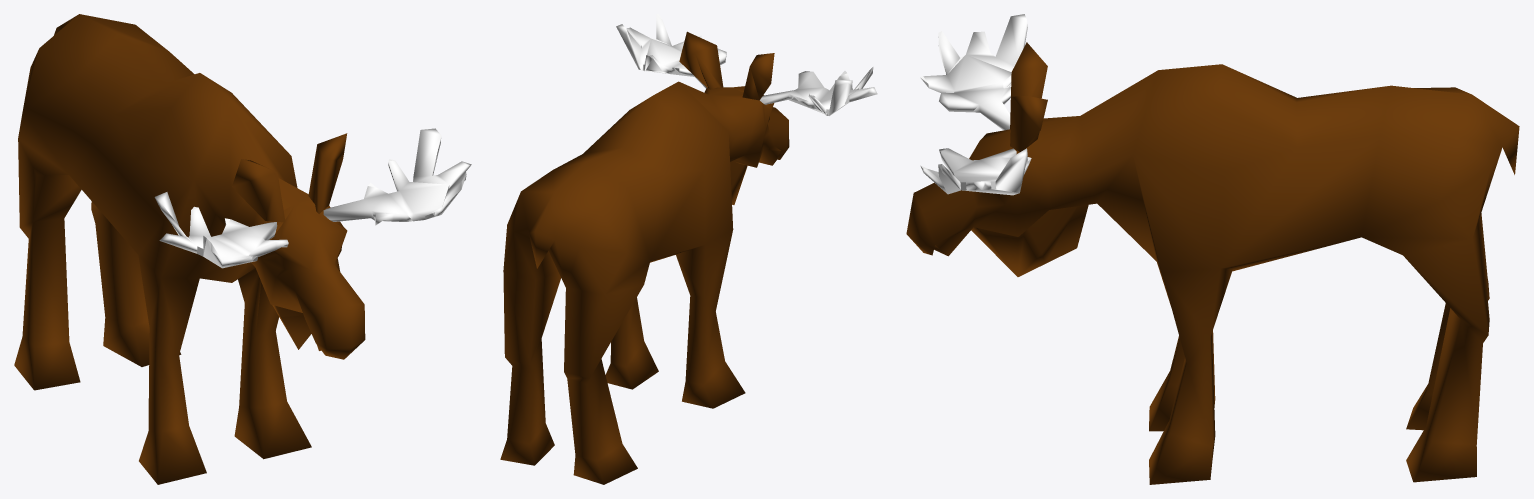
Rendered from moose.dae.
3 views of the same model, side by side, from view 1: azimuth 30°, elevation 25°; view 2: azimuth 150°, elevation 25°; view 3: azimuth 270°, elevation 25° (orthographic). The views are drawn at different scales.
Parts seen in each view (by area): view 1: Component_3 (×3); view 2: Component_3 (×3); view 3: Component_3 (×3).
Part boxes in pixels (x1,y1,x2,y2): Component_3 (×3): [14, 14, 471, 484]; Component_3 (×3): [500, 14, 877, 484]; Component_3 (×3): [906, 14, 1519, 484].
Bounding box in the file's own units: 39.68 × 65 × 44.65.
